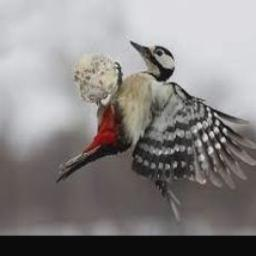Woodpecker: (55, 41, 256, 219)
